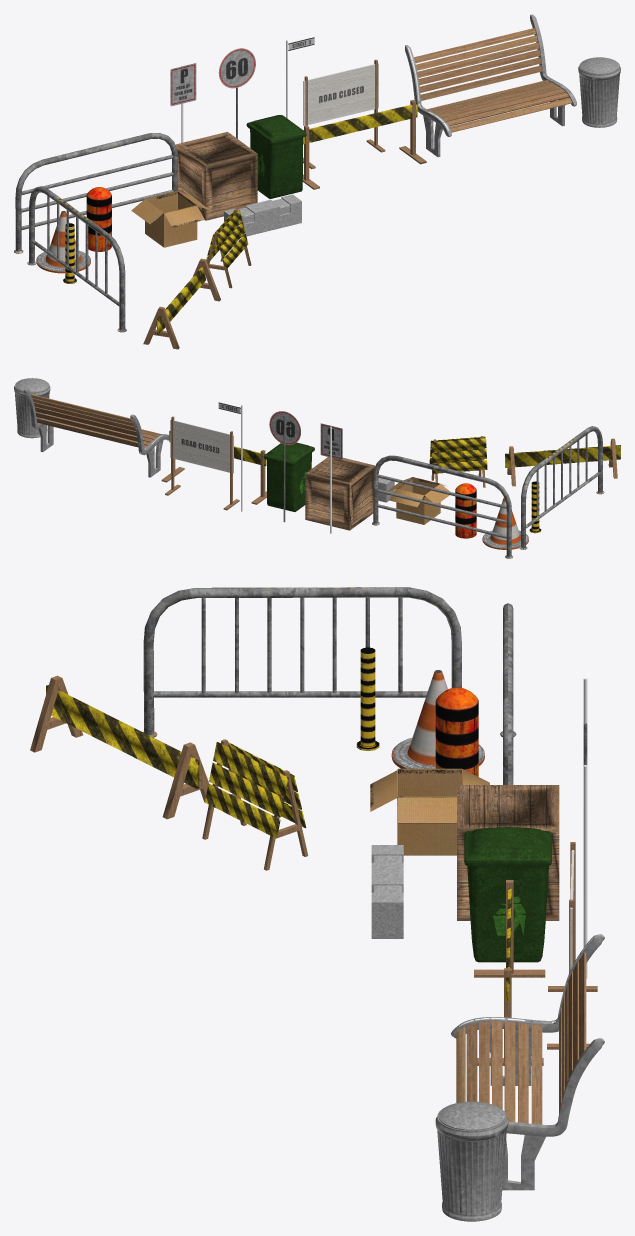
The model's file is prop_props.glb.
The picture shows the model from 3 angles, top to bottom: view 1: azimuth 30°, elevation 25°; view 2: azimuth 150°, elevation 25°; view 3: azimuth 270°, elevation 25°; orthographic projection. The views are drawn at different scales.
Parts seen in each view (by area): view 1: Object_25, Object_5, Object_32, Object_90; view 2: Object_25, Object_5, Object_32, Object_90; view 3: Object_25, Object_5, Object_32, Object_90.
Boxes of the visible parts, bbox=[...] form: Object_25: bbox=[143, 14, 620, 349]; Object_5: bbox=[14, 37, 314, 332]; Object_32: bbox=[246, 115, 306, 198]; Object_90: bbox=[181, 40, 449, 142]; Object_25: bbox=[14, 378, 620, 530]; Object_5: bbox=[218, 402, 604, 558]; Object_32: bbox=[263, 442, 314, 511]; Object_90: bbox=[131, 405, 331, 533]; Object_25: bbox=[30, 675, 604, 1221]; Object_5: bbox=[143, 587, 587, 855]; Object_32: bbox=[464, 827, 551, 962]; Object_90: bbox=[457, 678, 594, 1028].
Size of the model in its own units: 7.09 by 1.49 by 3.48.
Materials: 4 (3 with a texture image).
